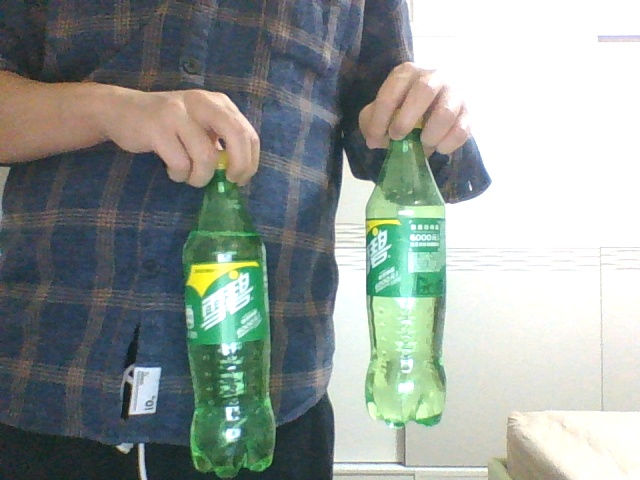Sprite: (182, 152, 274, 477), (365, 111, 448, 429)
